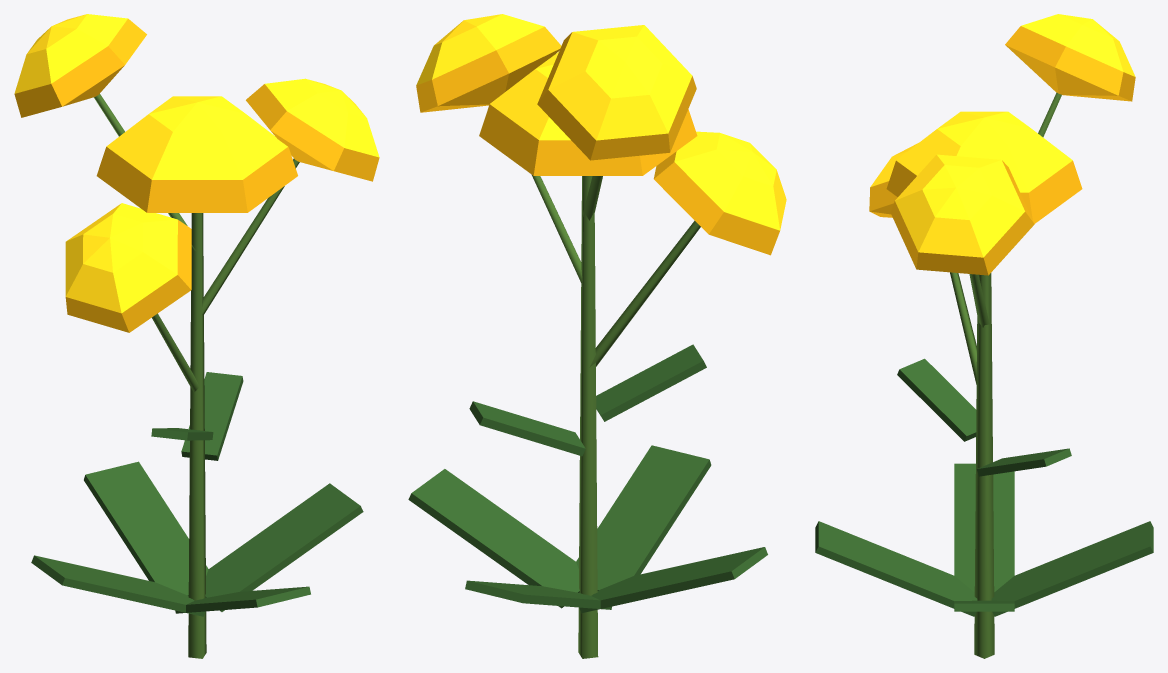
File: rapeseed_plant.glb
3 renders of one model, left to right at view 1: azimuth 30°, elevation 25°; view 2: azimuth 150°, elevation 25°; view 3: azimuth 270°, elevation 25°, orthographic. The views are drawn at different scales.
Visible parts, largest first — view 1: rapeseed_plant; view 2: rapeseed_plant; view 3: rapeseed_plant.
Part boxes in pixels (x1,y1,x2,y2): rapeseed_plant: (14,14,379,658); rapeseed_plant: (408,14,786,658); rapeseed_plant: (815,14,1153,658).
Size of the model in its own units: 0.4458 by 0.8396 by 0.428.
